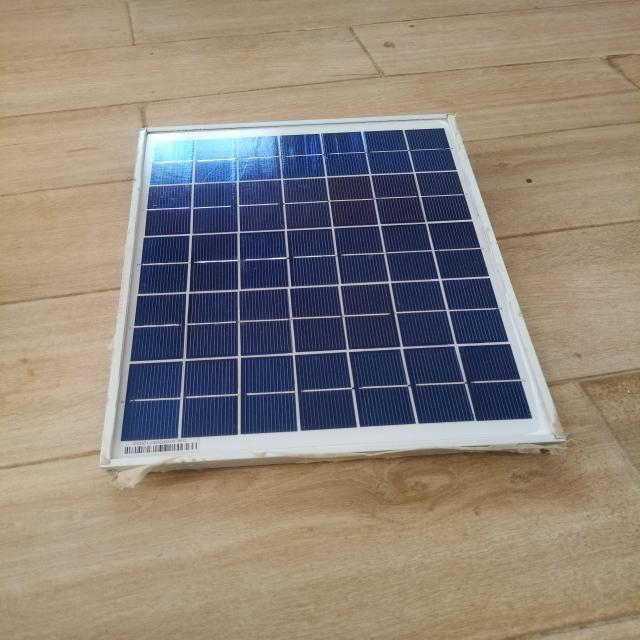no faulty: (107, 116, 561, 466)
